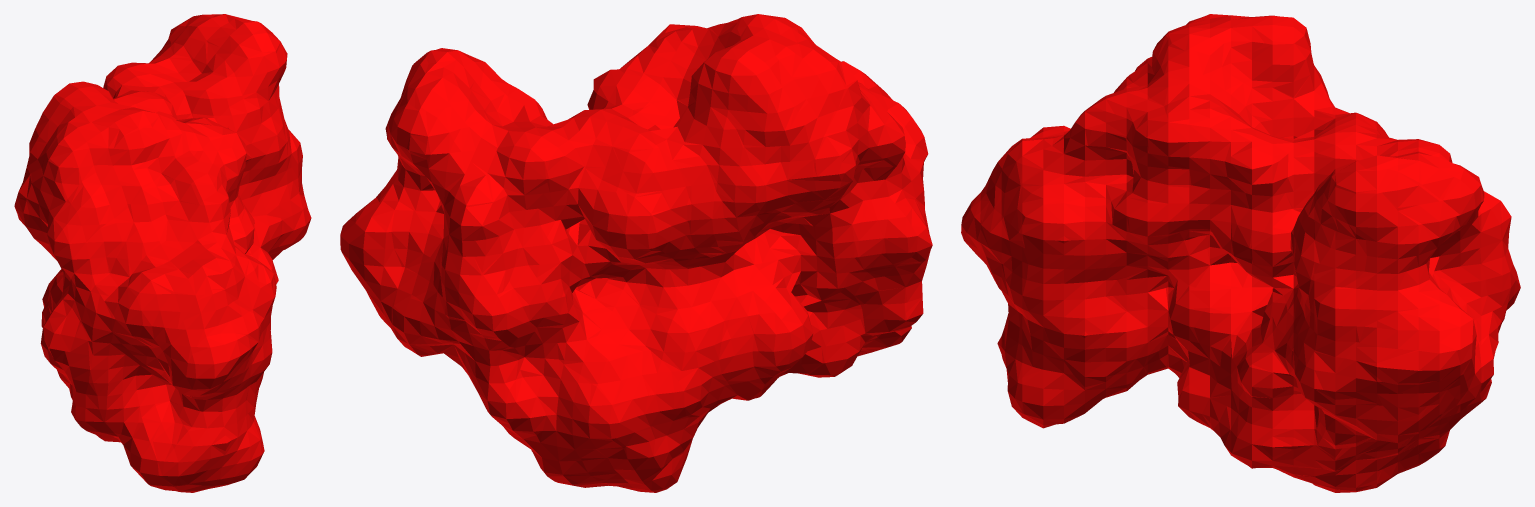
The model's file is coaA_coarse.dae.
The picture shows the model from 3 angles, left to right: view 1: azimuth 30°, elevation 25°; view 2: azimuth 150°, elevation 25°; view 3: azimuth 270°, elevation 25°; orthographic projection. The views are drawn at different scales.
Parts seen in each view (by area): view 1: coaA; view 2: coaA; view 3: coaA.
Part boxes in pixels (box(x1,y1,x2,y2)): coaA: box(14, 14, 311, 492); coaA: box(340, 14, 932, 492); coaA: box(961, 14, 1520, 492).
Bounding box in the file's own units: 95.42 × 90.39 × 110.
